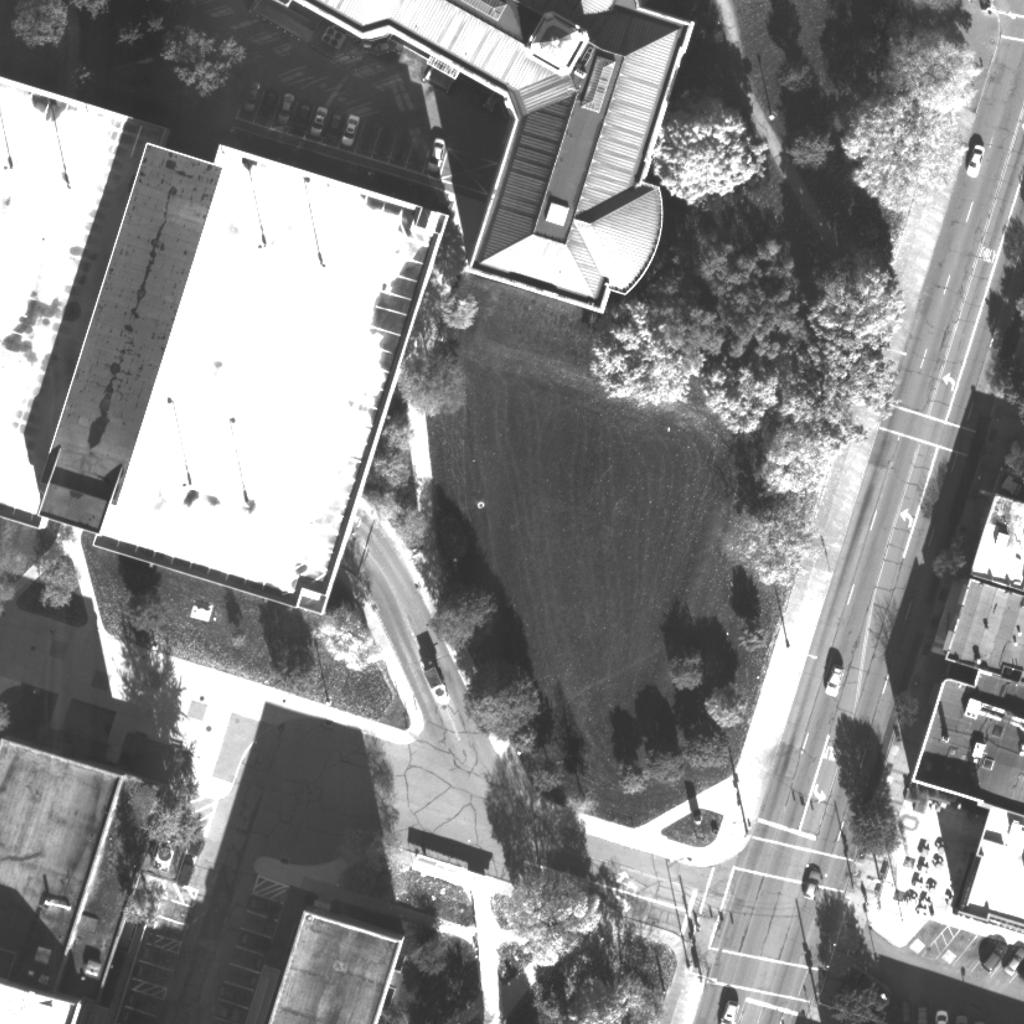car: (232, 77, 266, 111), (233, 77, 267, 111), (249, 85, 283, 119), (267, 89, 301, 123), (284, 97, 318, 131), (300, 101, 334, 135), (316, 107, 350, 141), (331, 111, 365, 145), (416, 138, 450, 172), (957, 143, 991, 177), (816, 662, 850, 696), (792, 867, 826, 901), (245, 888, 279, 922), (236, 924, 270, 958), (977, 937, 1011, 971), (214, 975, 248, 1009), (210, 996, 244, 1024), (997, 942, 1024, 976), (710, 998, 744, 1024), (905, 1001, 939, 1024)
